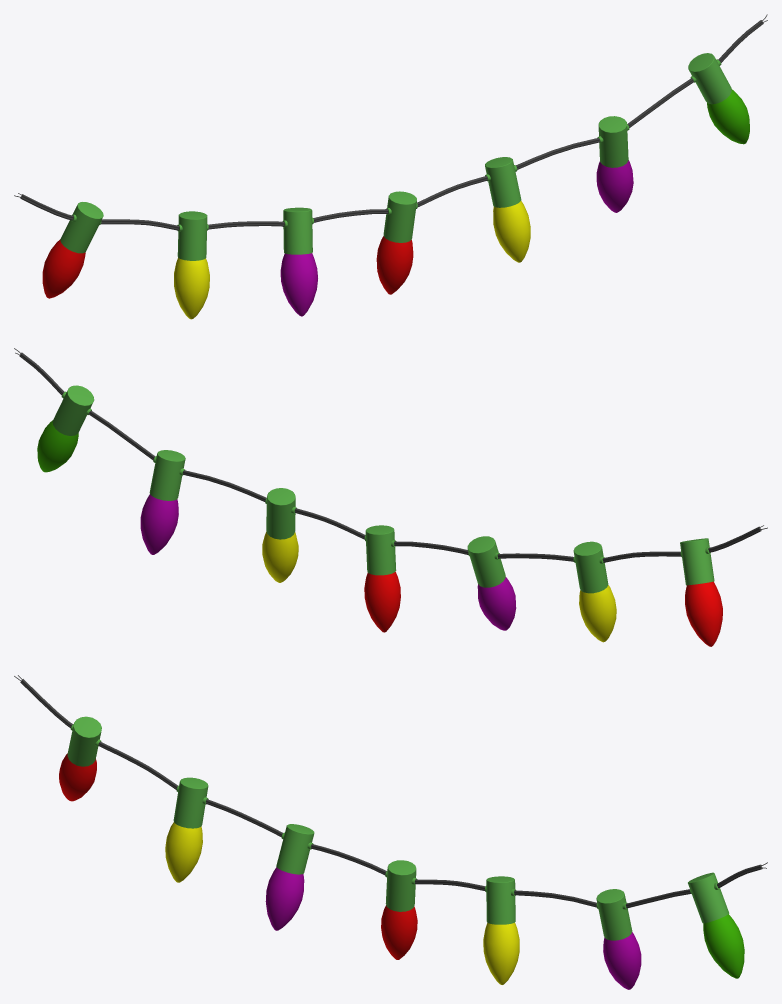
The model's file is holidaylights.fbx.
The picture shows the model from 3 angles, top to bottom: view 1: azimuth 30°, elevation 25°; view 2: azimuth 150°, elevation 25°; view 3: azimuth 330°, elevation 25°; orthographic projection.
Visible parts, largest first — view 1: funlights; view 2: funlights; view 3: funlights.
Part boxes in pixels (x1,y1,x2,y2): funlights: (14,14,767,319); funlights: (14,348,767,646); funlights: (14,675,767,989).
Bounding box in the file's own units: 51.2 × 12.73 × 3.96.
